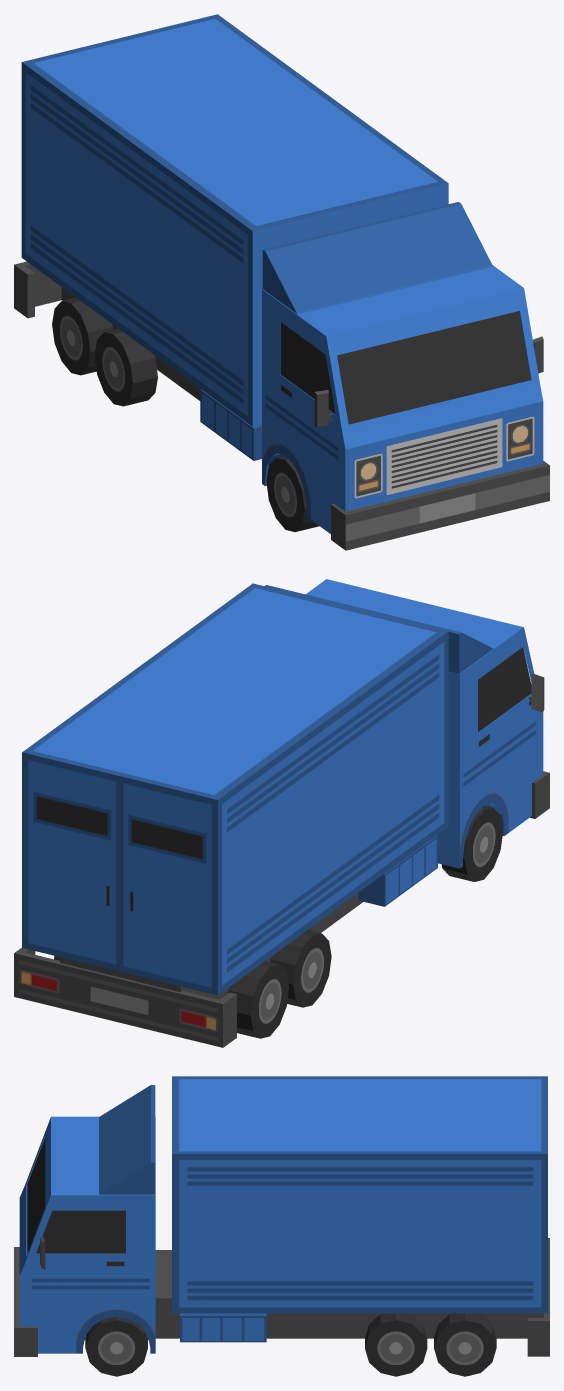
Rendered from container.gltf.
3 views of the same model, one above another, from view 1: azimuth 30°, elevation 25°; view 2: azimuth 150°, elevation 25°; view 3: azimuth 270°, elevation 25° (orthographic). The views are drawn at different scales.
Visible parts, largest first — view 1: container; view 2: container; view 3: container.
Part boxes in pixels (x1=…): container: x1=14, y1=14, x2=549, y2=550; container: x1=14, y1=579, x2=549, y2=1047; container: x1=14, y1=1076, x2=549, y2=1376.
Size of the model in its own units: 3.63 by 4.16 by 9.09.
1 material, 1 textured.
